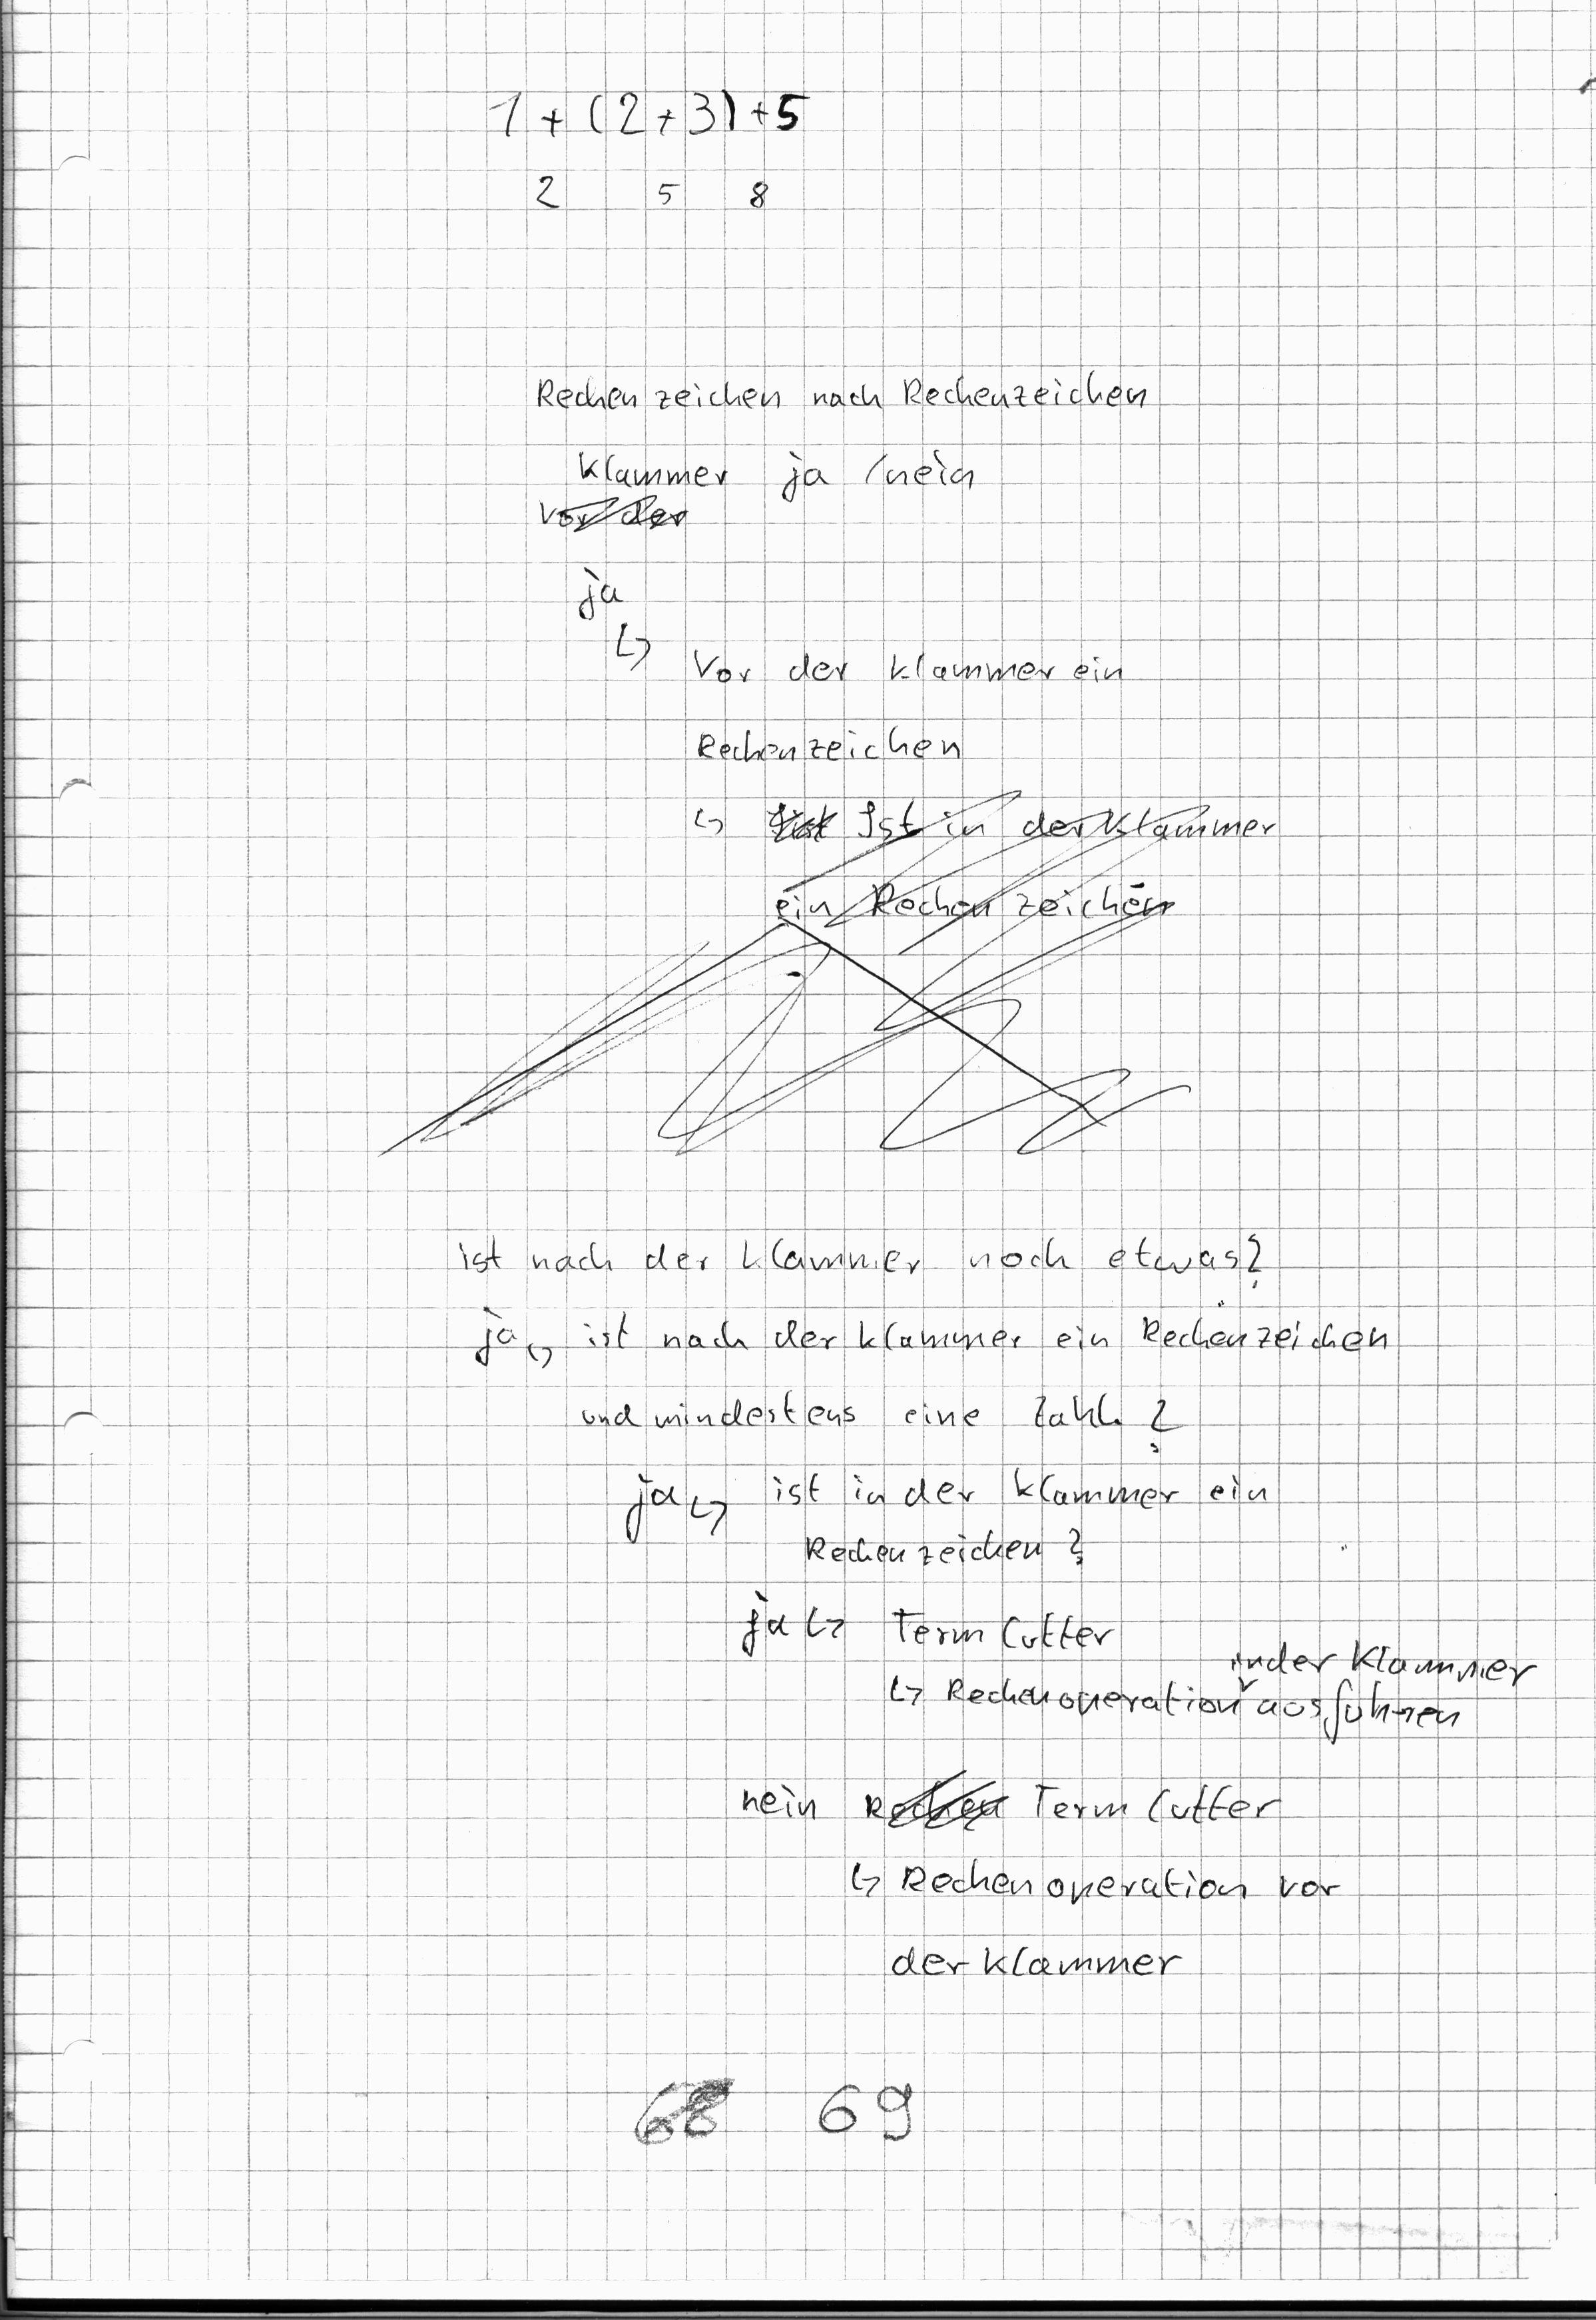word: (609, 1462, 1275, 1582), (467, 1300, 1390, 1377), (445, 1211, 1278, 1295), (525, 350, 1159, 428), (571, 1376, 1190, 1454), (532, 437, 985, 539), (734, 1767, 1284, 1837), (680, 622, 1134, 703), (840, 1845, 1349, 1915), (734, 1582, 1122, 1666), (684, 710, 976, 777), (879, 1930, 1187, 1990), (796, 2067, 938, 2159), (566, 559, 664, 681)
